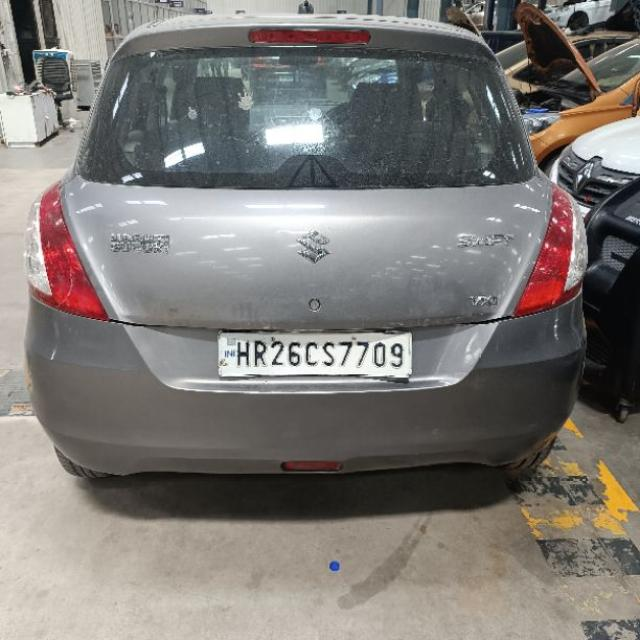license_plate: (215, 328, 413, 379)
